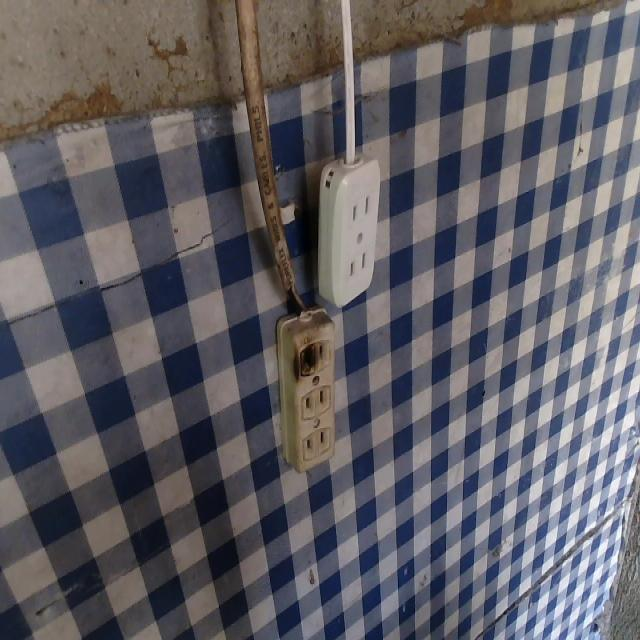-: (290, 337, 320, 388)
